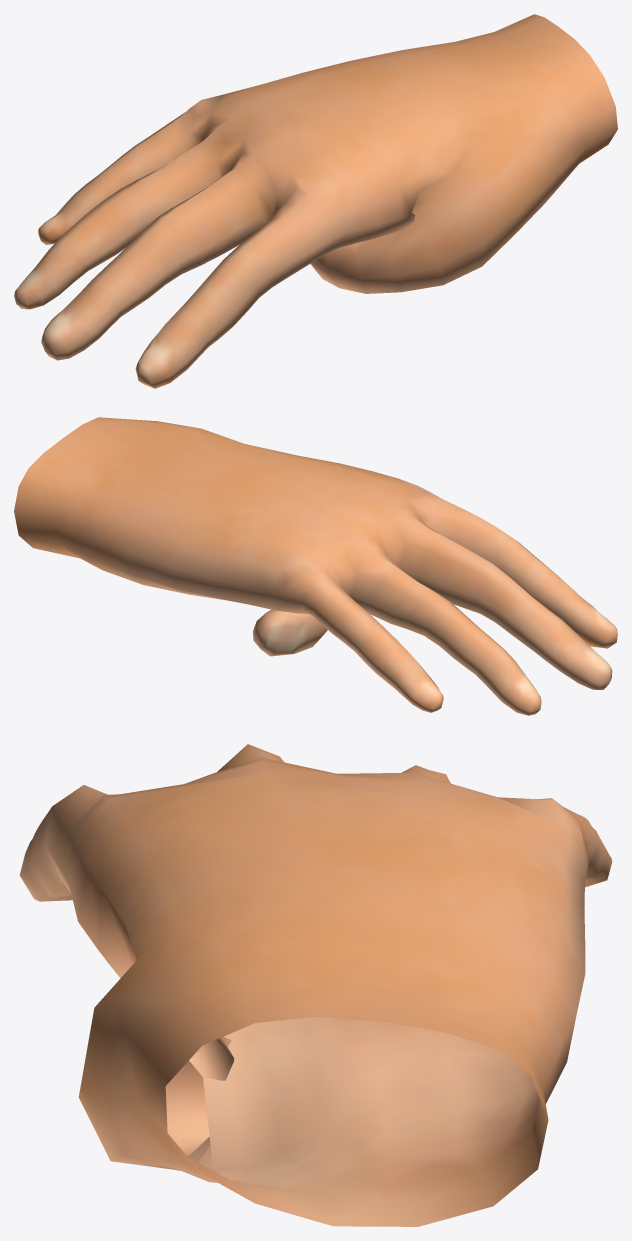
Rendered from F_thumb_curl.fbx.
3 views of the same model, one above another, from view 1: azimuth 30°, elevation 25°; view 2: azimuth 150°, elevation 25°; view 3: azimuth 270°, elevation 25° (orthographic). The views are drawn at different scales.
Visible parts, largest first — view 1: F_thumb_curl; view 2: F_thumb_curl; view 3: F_thumb_curl.
Part boxes in pixels (x1=…): F_thumb_curl: x1=14, y1=14, x2=617, y2=388; F_thumb_curl: x1=14, y1=417, x2=617, y2=715; F_thumb_curl: x1=19, y1=744, x2=612, y2=1226.
Size of the model in its own units: 20 by 6.2 by 9.91.
1 material, 1 textured.
